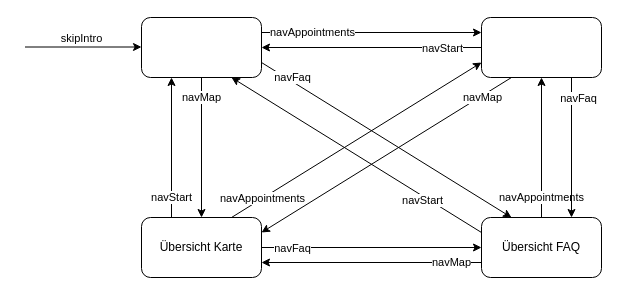
Image size: 619x295. Some labels were removed from this diagram. Each missing label, with the box of its shape:
Startbildschirm: (140, 16, 262, 78)
Übersicht Buchung: (480, 16, 602, 78)
